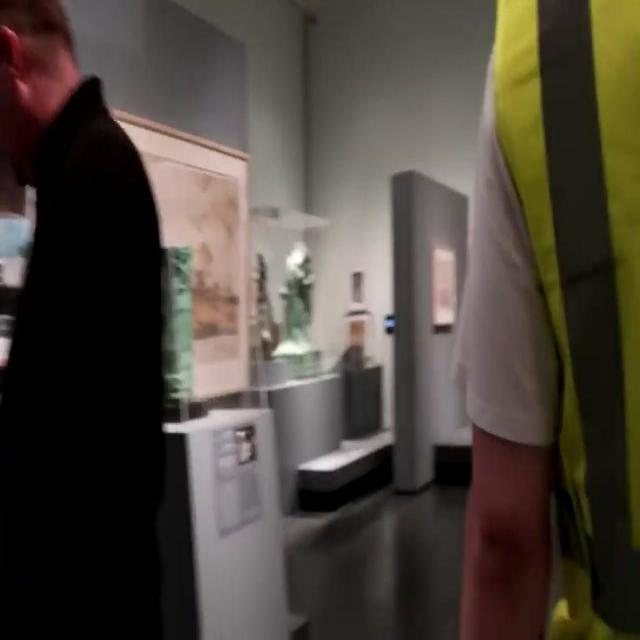Reflective-Jacket: (466, 0, 639, 632)
